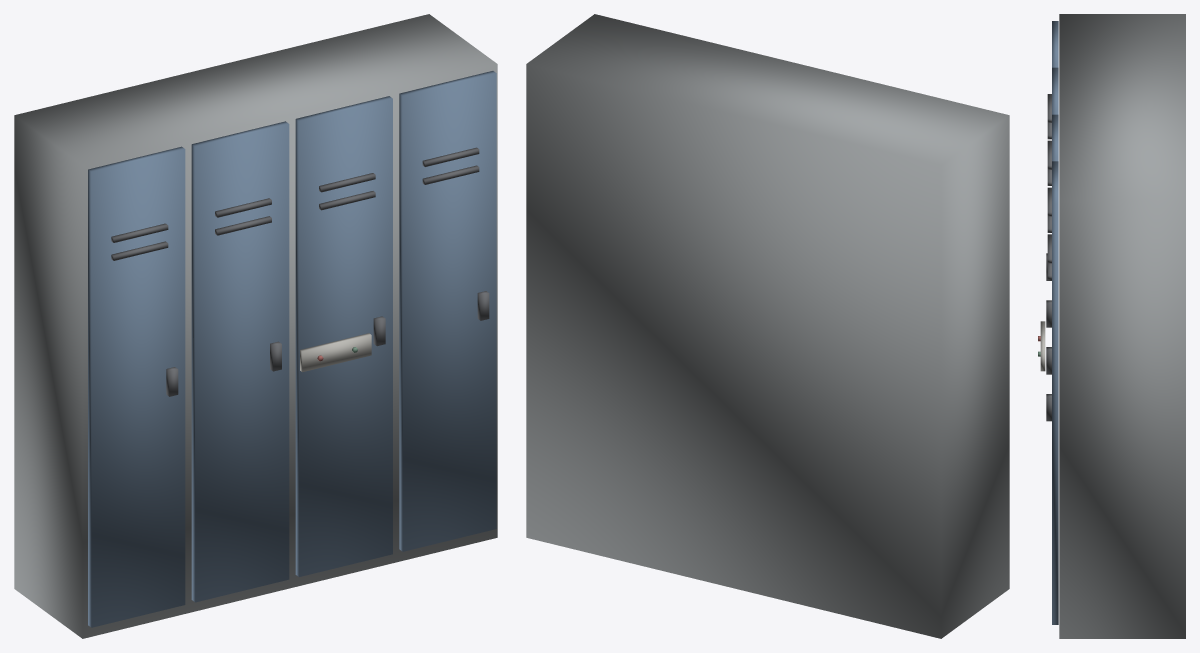
Rendered from locker_bank__reinforced.glb.
3 views of the same model, side by side, from view 1: azimuth 30°, elevation 25°; view 2: azimuth 150°, elevation 25°; view 3: azimuth 270°, elevation 25° (orthographic). The views are drawn at different scales.
Visible parts, largest first — view 1: world; view 2: world; view 3: world.
Part boxes in pixels (left/top/right/bottom): world: left=14, top=14, right=497, bottom=638; world: left=526, top=14, right=1009, bottom=638; world: left=1038, top=14, right=1185, bottom=638.
Bounding box in the file's own units: 1.73 × 1.89 × 0.5778.
